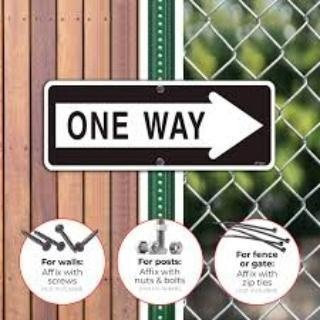sign_oneway_right: (41, 85, 270, 171)
